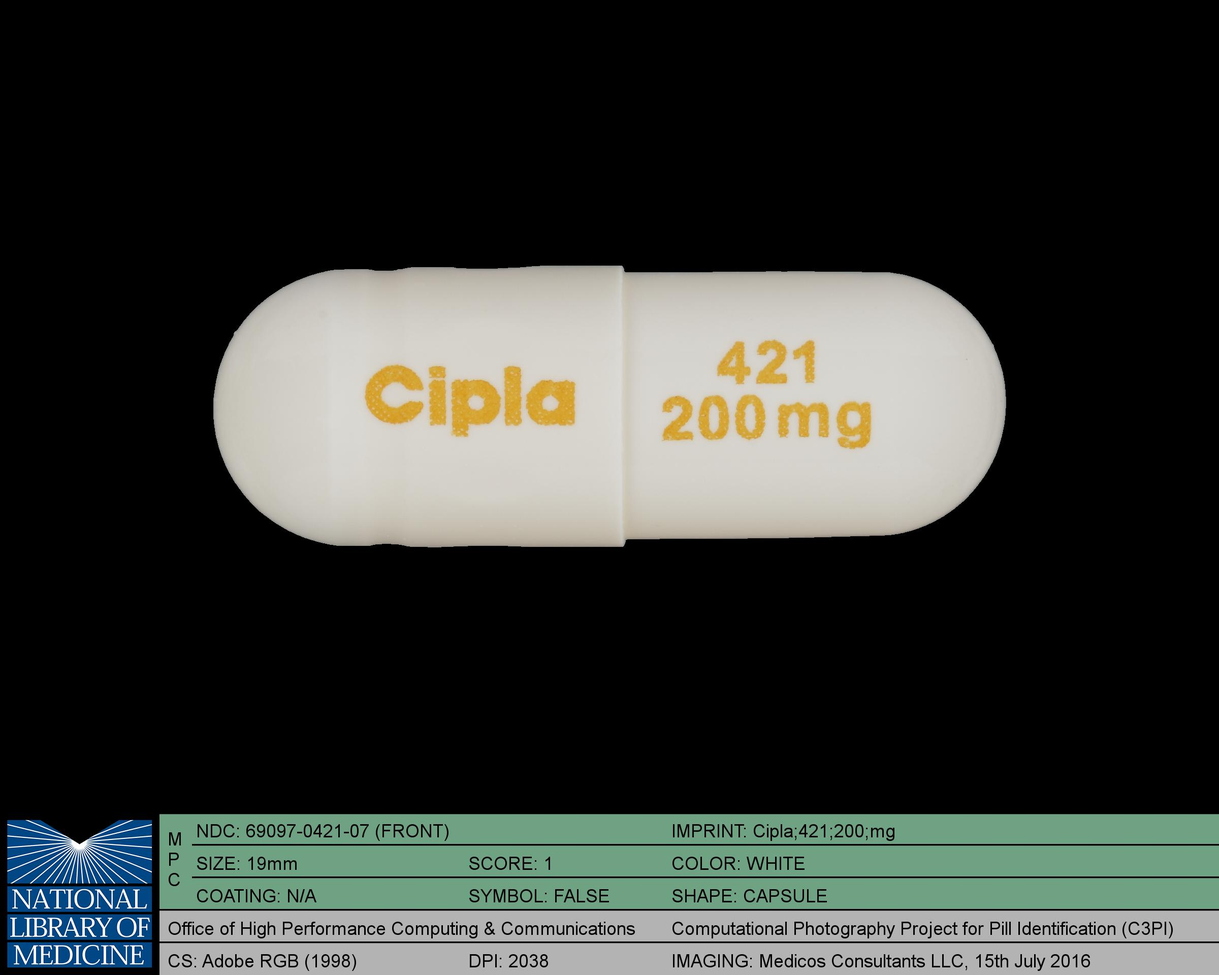Pill: (203, 254, 1018, 560)
